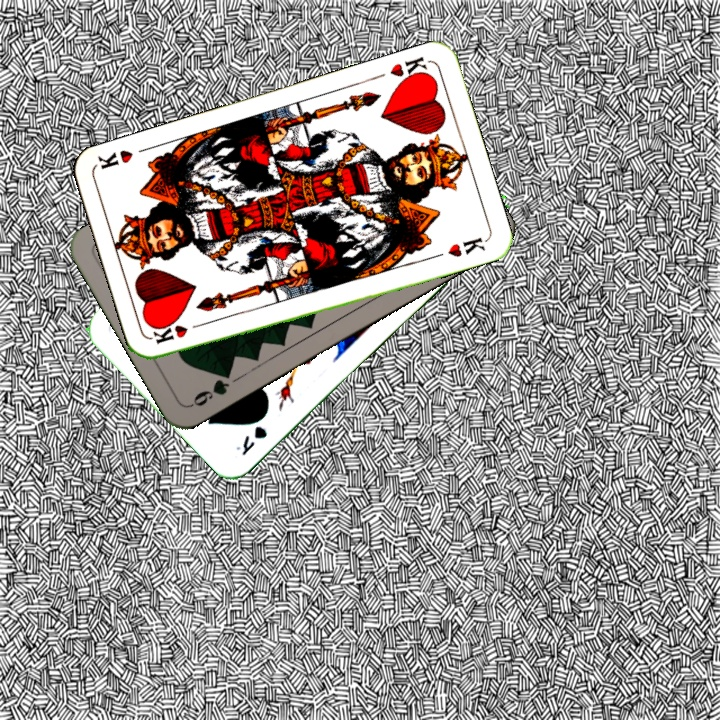G9: (186, 365, 235, 410)
GK: (231, 422, 270, 459)
HK: (150, 318, 209, 347), (386, 52, 433, 87)
